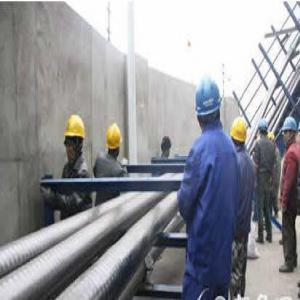blue: (196, 70, 223, 132), (282, 115, 297, 148), (258, 117, 269, 140)
yellow: (65, 114, 86, 162), (230, 116, 248, 153), (106, 122, 123, 160)
